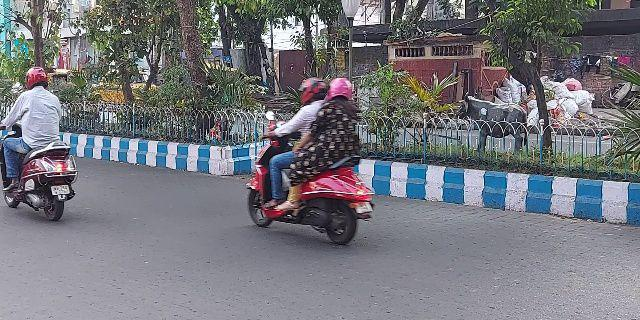Motorbike: (239, 74, 375, 253), (1, 62, 82, 229)
